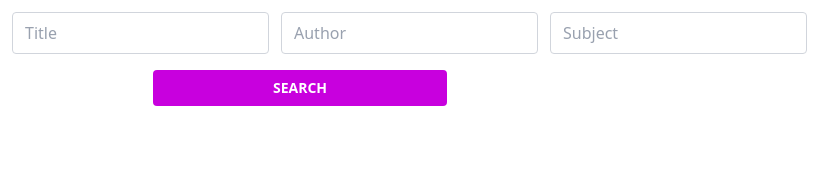
Test: InputForm › shows error when all inputs are empty
Click the button "SEARCH" at (300, 88), box [153,70,447,106]
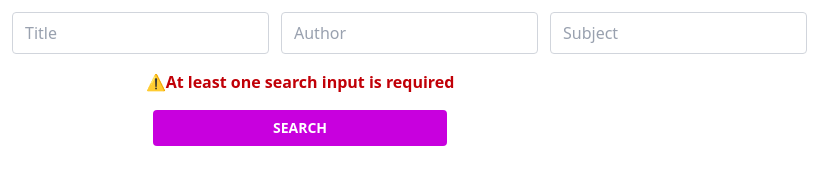
Result: the text "⚠️At least one search input is required" is shown at [146,70,454,94]
